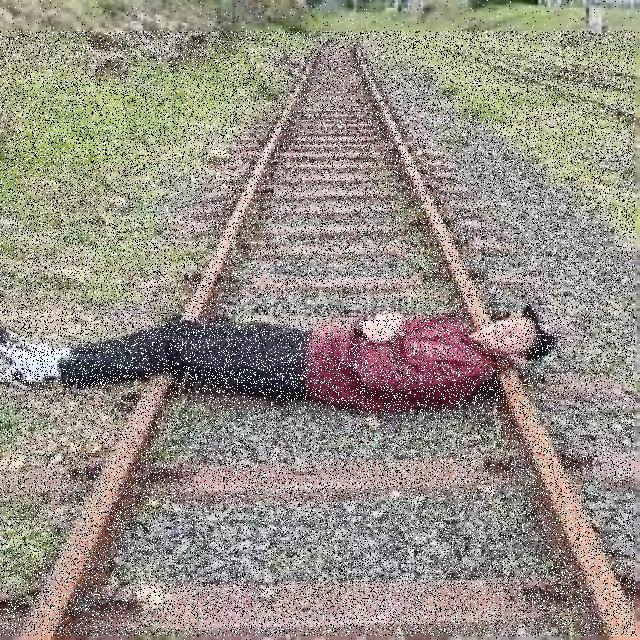danger: (0, 300, 574, 398)
rail: (0, 31, 635, 636)
